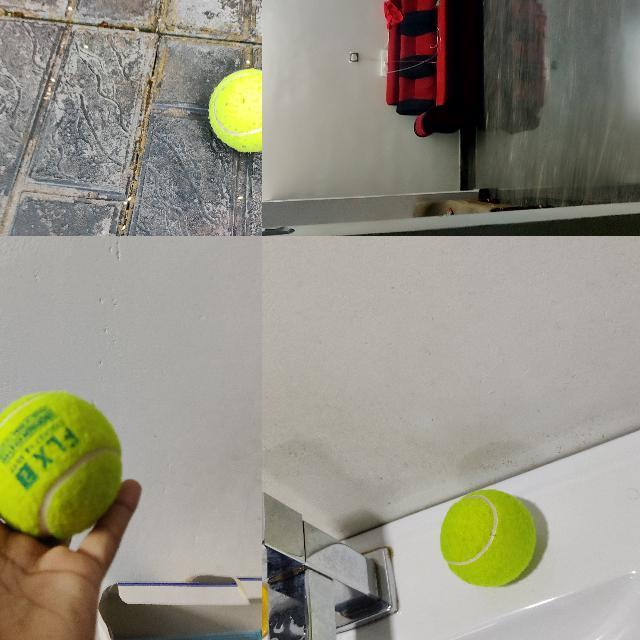tennis-ball: (0, 390, 123, 536), (439, 489, 537, 588), (207, 67, 261, 154)
